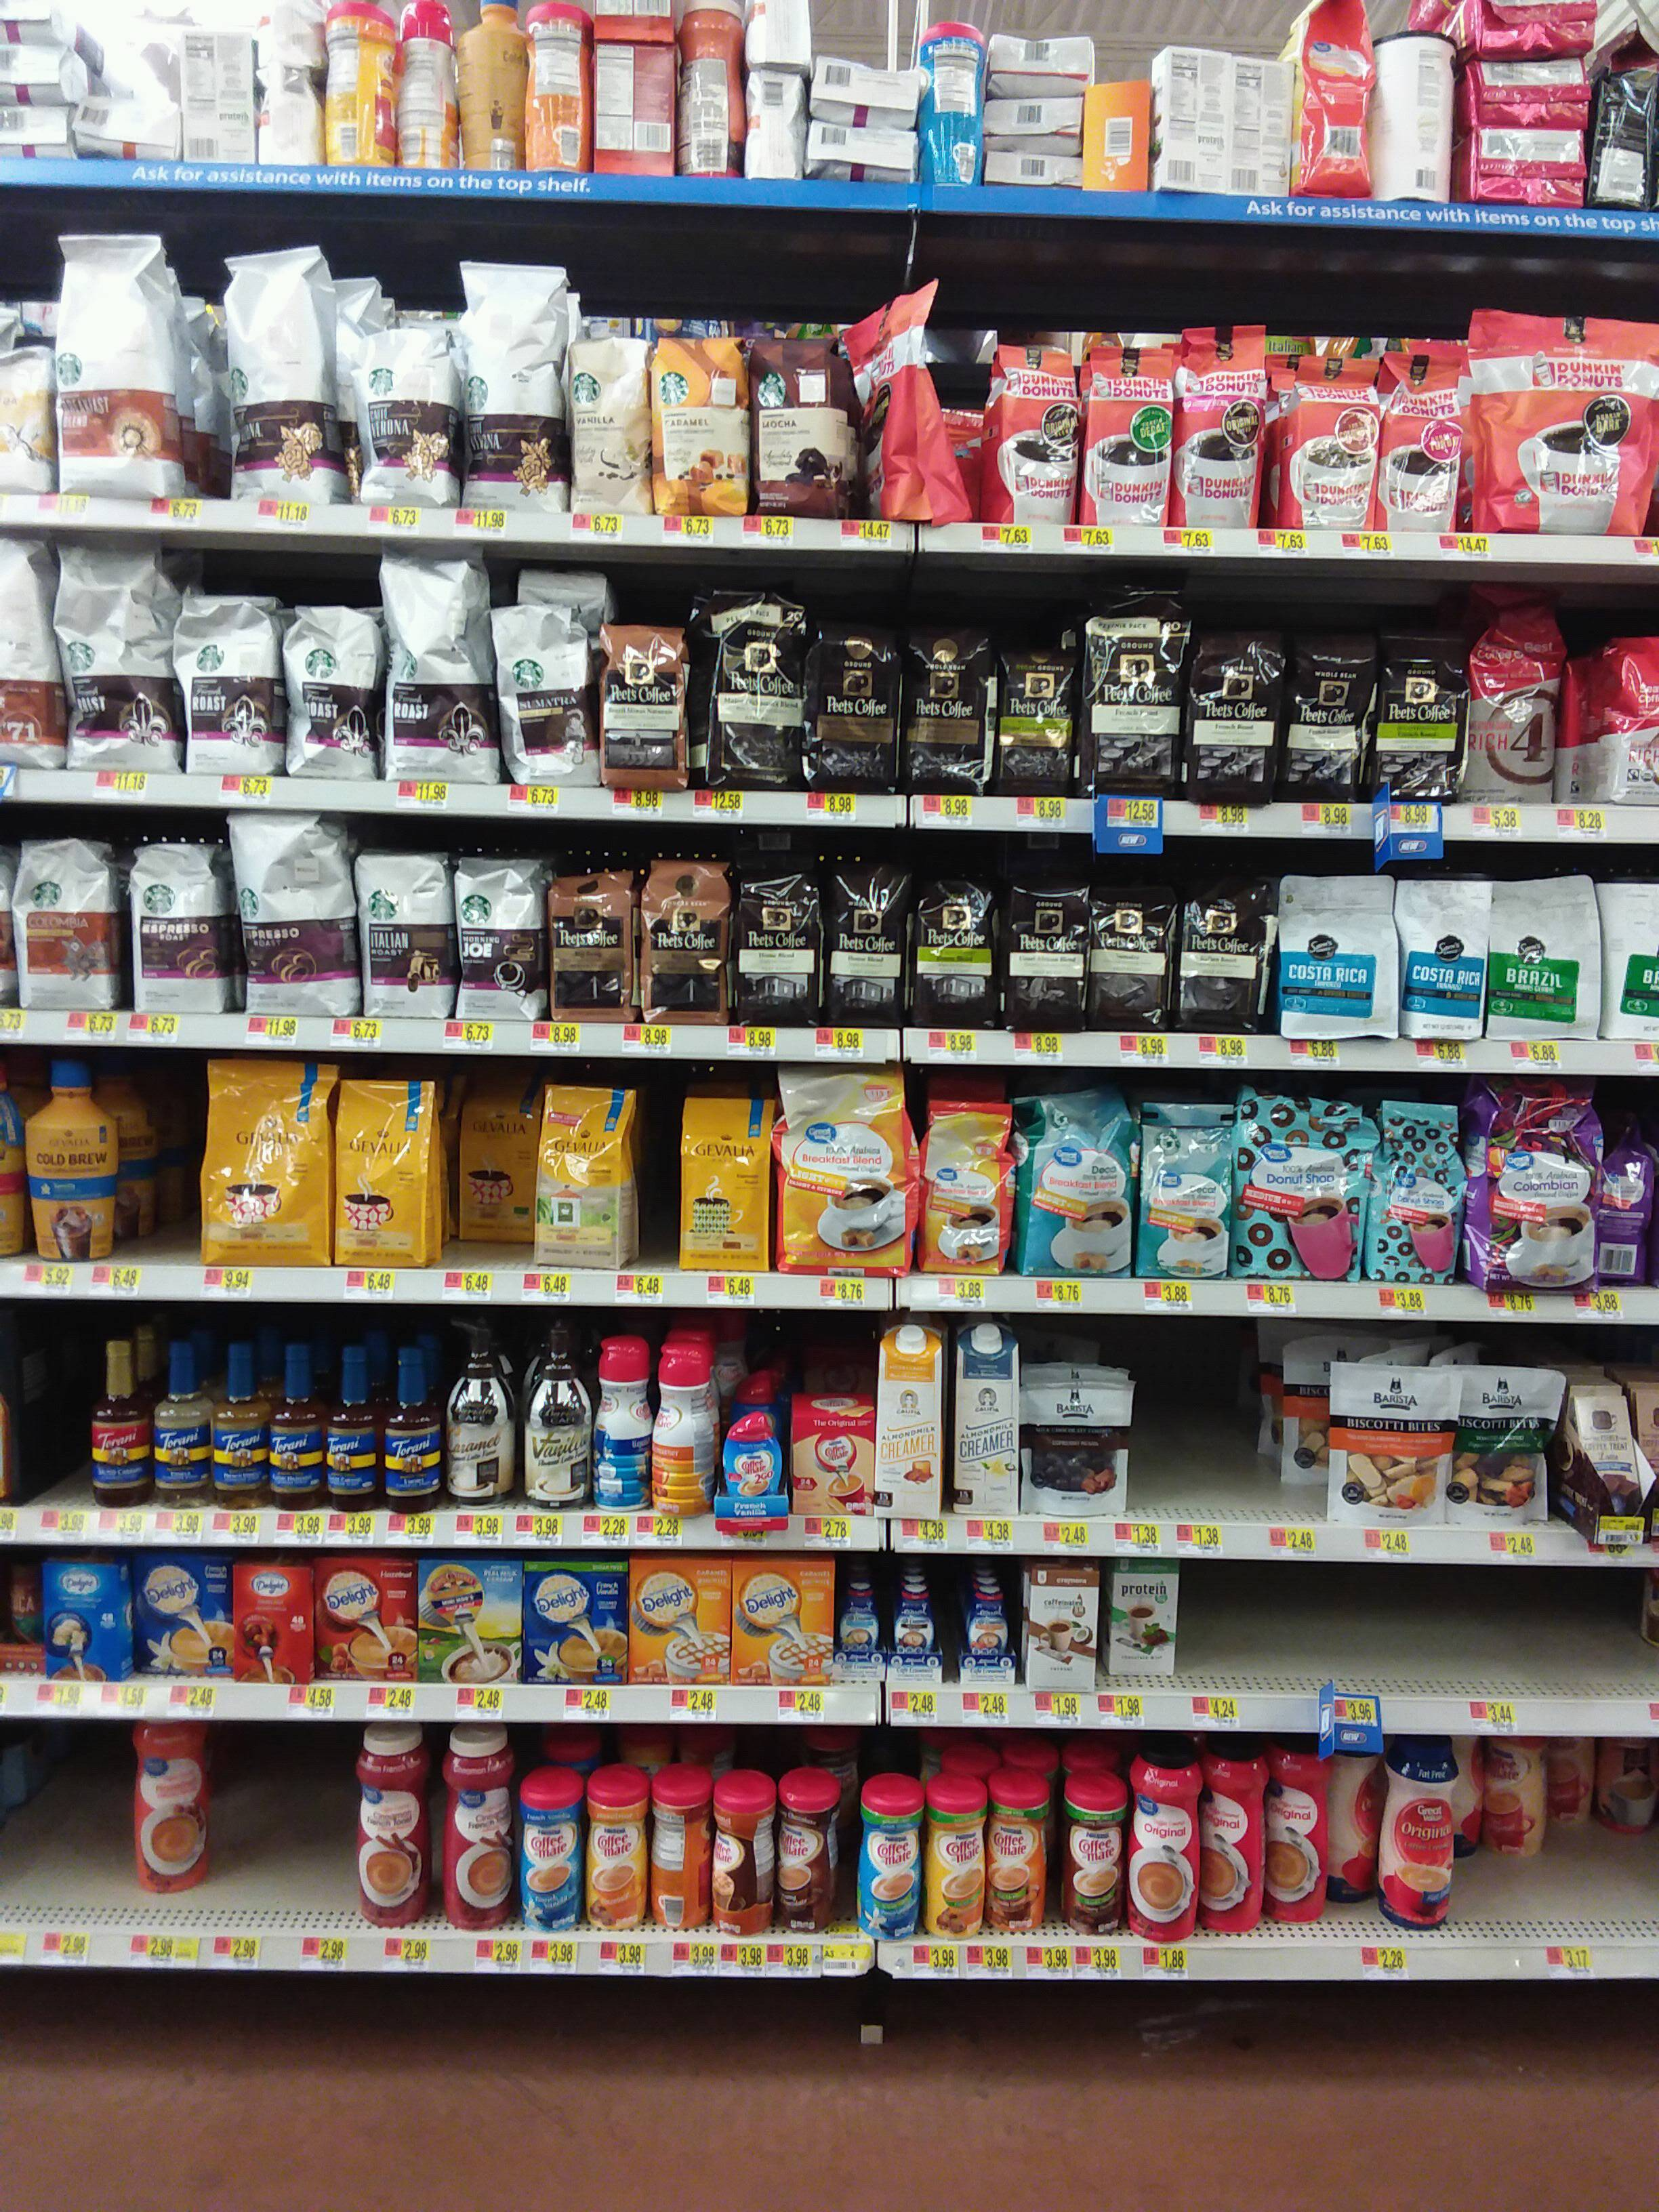product: (1467, 310, 1659, 538), (51, 239, 174, 496), (774, 1066, 910, 1278), (1466, 1075, 1593, 1292), (200, 1055, 328, 1270), (221, 253, 329, 502), (382, 545, 491, 786), (64, 528, 169, 775), (1237, 1089, 1368, 1284), (857, 298, 969, 524), (469, 263, 568, 514), (237, 808, 352, 1012), (1084, 573, 1183, 799), (1019, 1085, 1134, 1280), (1326, 1360, 1453, 1534), (1464, 582, 1560, 801), (695, 585, 796, 792), (333, 1075, 436, 1266), (24, 1055, 119, 1263), (1171, 327, 1267, 529), (1277, 878, 1398, 1038), (178, 592, 279, 780), (1483, 874, 1596, 1038), (352, 326, 457, 502), (535, 1083, 631, 1273), (753, 331, 847, 521), (14, 831, 113, 1008), (125, 840, 225, 1017), (655, 329, 748, 519), (495, 606, 591, 789), (1370, 1099, 1460, 1284), (1138, 1099, 1230, 1280), (985, 340, 1073, 528), (1077, 343, 1166, 531), (920, 1089, 1007, 1280), (1455, 1366, 1554, 1533), (1368, 629, 1462, 805), (678, 1092, 767, 1275), (803, 617, 894, 792), (286, 603, 375, 780), (1290, 0, 1368, 200), (0, 528, 63, 777), (1288, 359, 1375, 533), (990, 624, 1075, 801), (599, 620, 688, 791), (903, 617, 986, 794), (451, 857, 542, 1021), (359, 855, 450, 1019), (1192, 629, 1277, 801), (1281, 627, 1364, 803), (638, 862, 725, 1028), (1025, 1378, 1129, 1515), (354, 1737, 429, 1928), (734, 864, 821, 1028), (441, 1735, 516, 1925), (441, 1318, 516, 1507), (572, 334, 650, 514), (823, 866, 908, 1029), (1380, 1743, 1453, 1933), (1382, 352, 1459, 533), (129, 1716, 206, 1892), (629, 1554, 730, 1686), (911, 876, 999, 1029), (453, 1066, 530, 1240), (1127, 1752, 1197, 1944), (1373, 28, 1448, 204), (734, 1554, 833, 1686), (1000, 874, 1086, 1028), (1094, 883, 1180, 1036), (519, 1322, 589, 1508), (1187, 880, 1272, 1031), (317, 1559, 416, 1688), (528, 1559, 627, 1684), (422, 1559, 519, 1684), (1401, 881, 1478, 1040), (551, 873, 629, 1026), (1204, 1743, 1267, 1935), (880, 1329, 943, 1521), (955, 1324, 1018, 1514), (322, 5, 397, 164), (132, 1552, 228, 1674), (1588, 643, 1659, 805), (593, 42, 674, 181), (1577, 1392, 1650, 1547), (681, 0, 744, 179), (35, 1559, 124, 1684), (1601, 24, 1659, 211), (1159, 40, 1227, 197), (228, 1562, 314, 1684), (525, 5, 587, 171), (1270, 1743, 1326, 1925), (1598, 1109, 1656, 1284), (403, 0, 460, 174), (465, 0, 523, 174), (657, 1343, 713, 1522), (596, 1336, 652, 1515), (87, 1338, 146, 1505), (268, 1348, 324, 1514), (181, 31, 251, 164), (1601, 885, 1659, 1045), (925, 23, 983, 181), (382, 1348, 436, 1515), (324, 1343, 378, 1510), (153, 1343, 207, 1510), (1466, 129, 1582, 206), (211, 1346, 265, 1512), (1061, 1792, 1122, 1932), (647, 1791, 708, 1930), (1328, 1740, 1380, 1902), (791, 1413, 873, 1515), (924, 1797, 983, 1937), (1466, 57, 1586, 125), (859, 1801, 918, 1939), (777, 1794, 836, 1932), (711, 1797, 770, 1935), (992, 1792, 1051, 1930), (518, 1794, 575, 1933), (1112, 1555, 1178, 1676), (1481, 1737, 1544, 1862), (1028, 1569, 1094, 1688), (584, 1789, 640, 1928), (1230, 57, 1286, 195), (718, 1416, 782, 1529), (0, 350, 47, 498), (78, 92, 178, 160), (810, 124, 920, 183), (816, 63, 918, 125), (1473, 0, 1600, 51), (748, 70, 805, 181), (1089, 82, 1148, 190), (258, 64, 317, 167), (992, 31, 1084, 92), (892, 1581, 943, 1688), (1598, 1742, 1659, 1829), (838, 1580, 887, 1686), (960, 1581, 1009, 1688), (988, 99, 1082, 150), (748, 0, 810, 66), (0, 1552, 31, 1672), (256, 0, 319, 59), (1547, 1737, 1588, 1827), (0, 49, 66, 103), (521, 566, 606, 606), (0, 106, 68, 155), (988, 152, 1079, 183), (0, 0, 64, 44)
